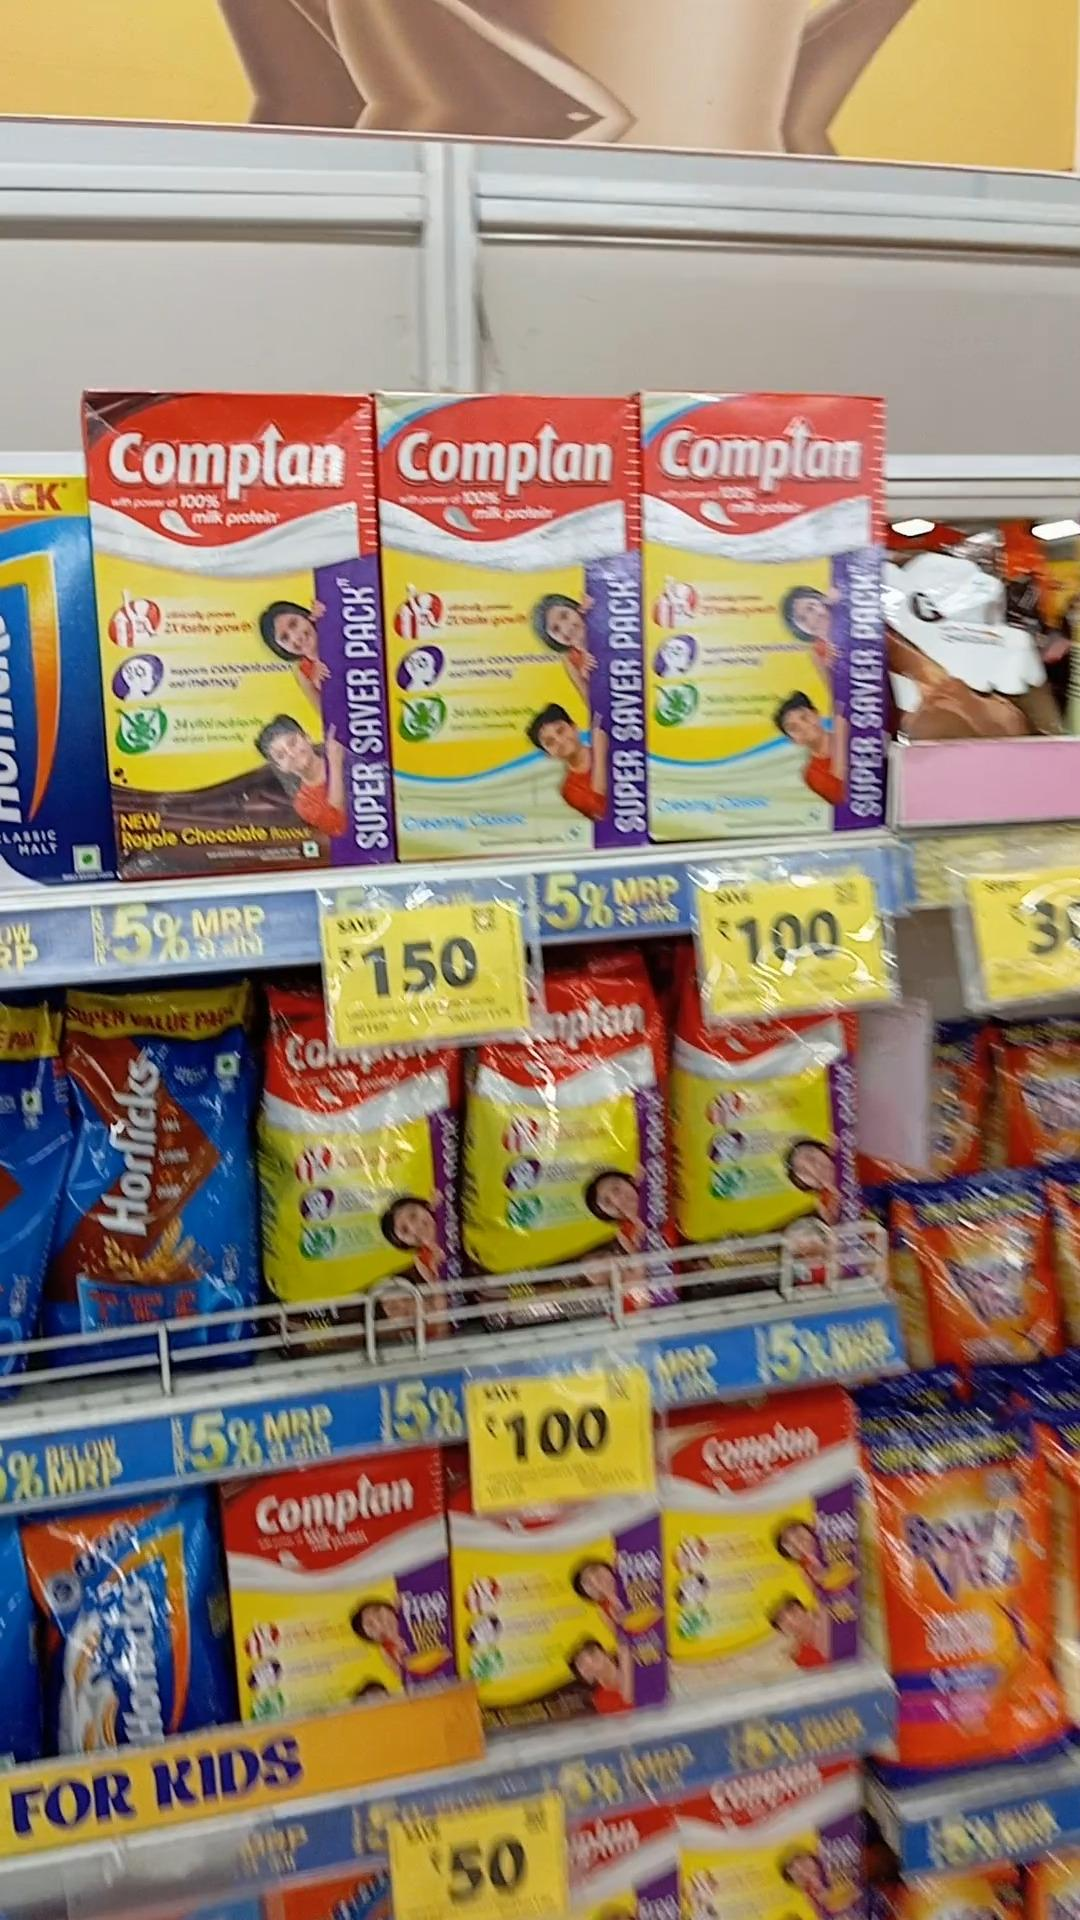BOURN_VITA_500_G_POUCH: (881, 1431, 1062, 1772)
COMPLAN_CHOCOLATE_1_KG_PACK: (99, 394, 396, 870)
COMPLAN_CHOCOLATE_500_GMS_PACK: (229, 1465, 450, 1702), (462, 1472, 662, 1725)
COMPLAN_KESAR_BADAM_500_GMS_PACK: (669, 1399, 856, 1691)
COMPLAN_RC_POUCH_700_GMS_12: (270, 1022, 460, 1344), (473, 1015, 667, 1328), (674, 1006, 862, 1290)
HORLICK_CHOCOLATE_750_G_POUCH: (62, 982, 258, 1362)
HORLICK_CLASSIC_MALT_750_G_POUCH: (34, 1499, 215, 1730)
